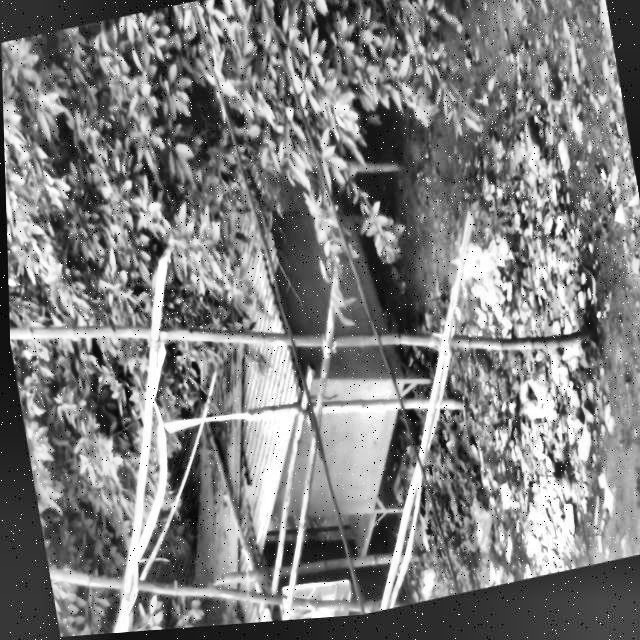Fire: (446, 235, 528, 341)
